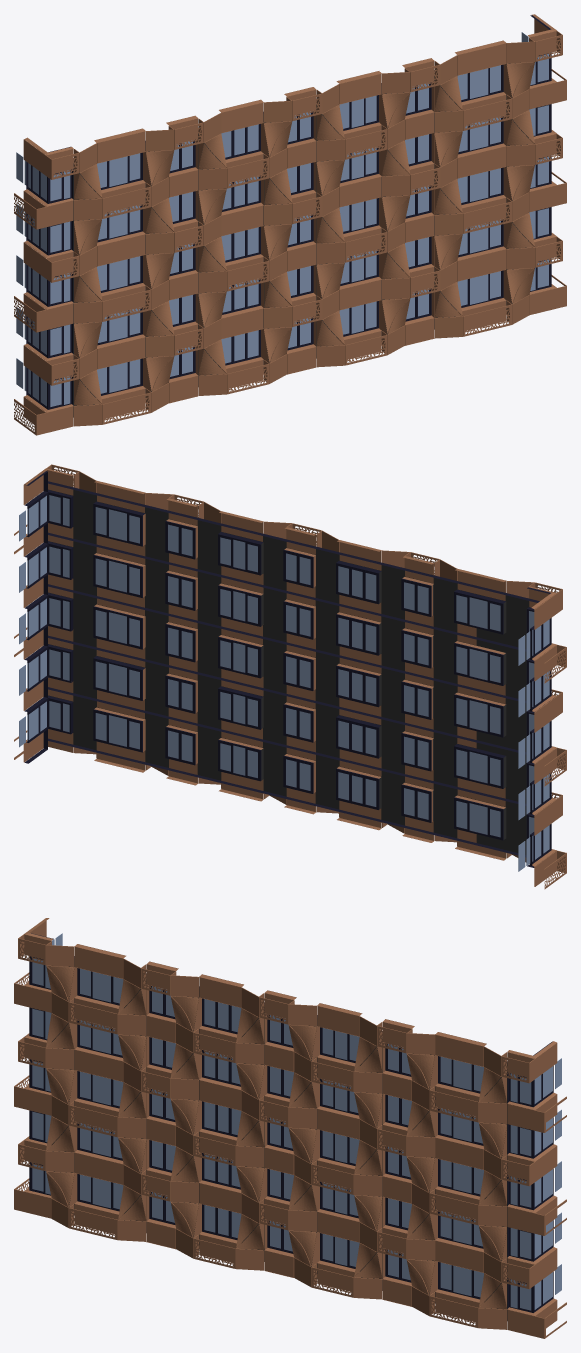
3 views of the same model, one above another, from view 1: azimuth 30°, elevation 25°; view 2: azimuth 150°, elevation 25°; view 3: azimuth 330°, elevation 25° (orthographic).
Parts seen in each view (by area): view 1: 07 Стекло_СТК_Стекло по ГОСТ.001, Ramy_111.001, 05 Металл_СТЛ_Отлив_RAL 7024 Графит_290, Line198.001, Line195.001, Line191.001, Line201.001, Line197.001, Line194.001, 08 ВЗ_Воздушный зазор.001, Generic.001, Curve_Panel_174.001 (+45 smaller); view 2: 08 ВЗ_Воздушный зазор.001, 07 Стекло_СТК_Стекло по ГОСТ.001, 05 Металл_СТЛ_Отлив_RAL 7024 Графит_290, Generic.001, Line191.001, Ramy_111.001, Line201.001, Line194.001, Line197.001, Line198.001, Line195.001; view 3: 07 Стекло_СТК_Стекло по ГОСТ.001, Ramy_111.001, 05 Металл_СТЛ_Отлив_RAL 7024 Графит_290, Line191.001, Line195.001, Line198.001, Line201.001, Line197.001, Line194.001, 08 ВЗ_Воздушный зазор.001, Generic.001, Curve_Panel_216.001 (+45 smaller).
Boxes of the visible parts, left/top/right/bottom form: 07 Стекло_СТК_Стекло по ГОСТ.001: left=16, top=32, right=548, bottom=406; Ramy_111.001: left=24, top=14, right=556, bottom=418; 05 Металл_СТЛ_Отлив_RAL 7024 Графит_290: left=27, top=52, right=551, bottom=409; Line198.001: left=14, top=172, right=566, bottom=332; Line195.001: left=14, top=69, right=566, bottom=229; Line191.001: left=23, top=19, right=562, bottom=179; Line201.001: left=14, top=275, right=566, bottom=435; Line197.001: left=23, top=237, right=562, bottom=385; Line194.001: left=23, top=134, right=562, bottom=282; 08 ВЗ_Воздушный зазор.001: left=73, top=63, right=528, bottom=417; Generic.001: left=25, top=15, right=551, bottom=404; Curve_Panel_174.001: left=506, top=62, right=534, bottom=97; 08 ВЗ_Воздушный зазор.001: left=48, top=489, right=531, bottom=854; 07 Стекло_СТК_Стекло по ГОСТ.001: left=19, top=495, right=549, bottom=871; 05 Металл_СТЛ_Отлив_RAL 7024 Графит_290: left=28, top=492, right=551, bottom=863; Generic.001: left=24, top=471, right=553, bottom=867; Line191.001: left=23, top=464, right=562, bottom=629; Ramy_111.001: left=24, top=468, right=556, bottom=866; Line201.001: left=14, top=729, right=566, bottom=889; Line194.001: left=23, top=574, right=562, bottom=732; Line197.001: left=23, top=677, right=562, bottom=835; Line198.001: left=14, top=626, right=566, bottom=786; Line195.001: left=14, top=523, right=566, bottom=683; 07 Стекло_СТК_Стекло по ГОСТ.001: left=32, top=933, right=561, bottom=1310; Ramy_111.001: left=24, top=918, right=556, bottom=1322; 05 Металл_СТЛ_Отлив_RAL 7024 Графит_290: left=29, top=956, right=553, bottom=1312; Line191.001: left=18, top=918, right=557, bottom=1083; Line195.001: left=14, top=972, right=566, bottom=1132; Line198.001: left=14, top=1075, right=566, bottom=1235; Line201.001: left=14, top=1178, right=566, bottom=1338; Line197.001: left=18, top=1136, right=557, bottom=1289; Line194.001: left=18, top=1033, right=557, bottom=1186; 08 ВЗ_Воздушный зазор.001: left=51, top=958, right=507, bottom=1320; Generic.001: left=31, top=933, right=553, bottom=1308; Curve_Panel_216.001: left=354, top=1092, right=382, bottom=1128.
Size of the model in its own units: 32.38 by 16.24 by 4.2.
